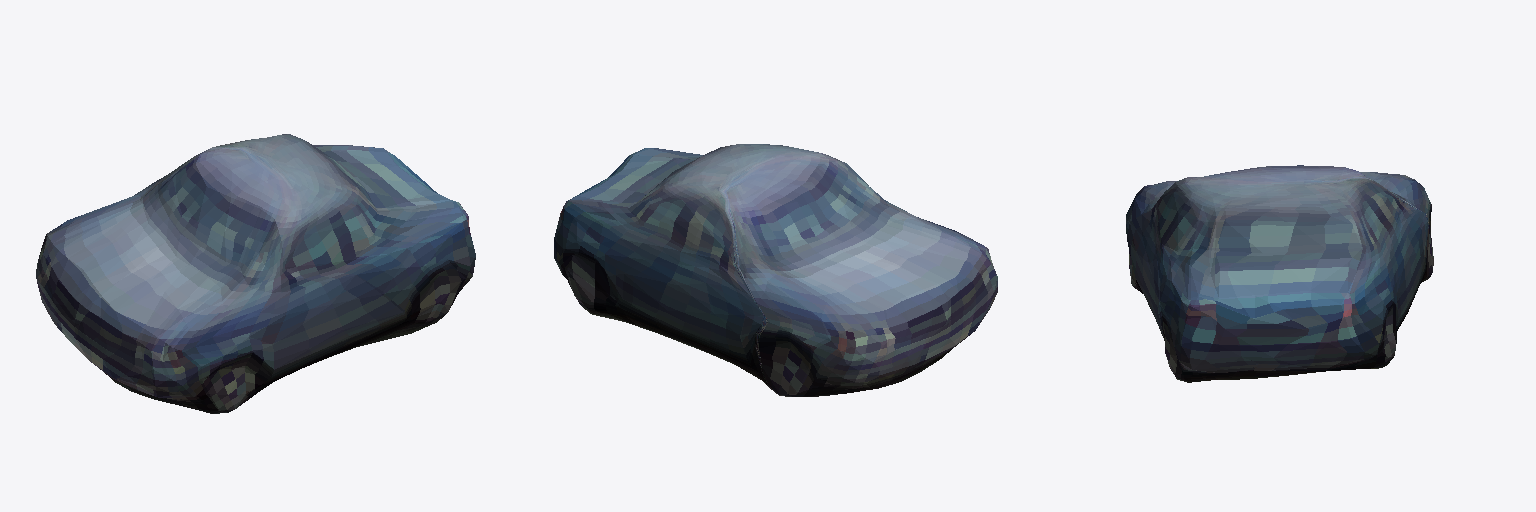
The picture shows the model from 3 angles: view 1: azimuth 30°, elevation 25°; view 2: azimuth 150°, elevation 25°; view 3: azimuth 270°, elevation 25°; orthographic projection.
Size of the model in its own units: 1 by 0.4499 by 0.7385.
1 materials, 1 textured.